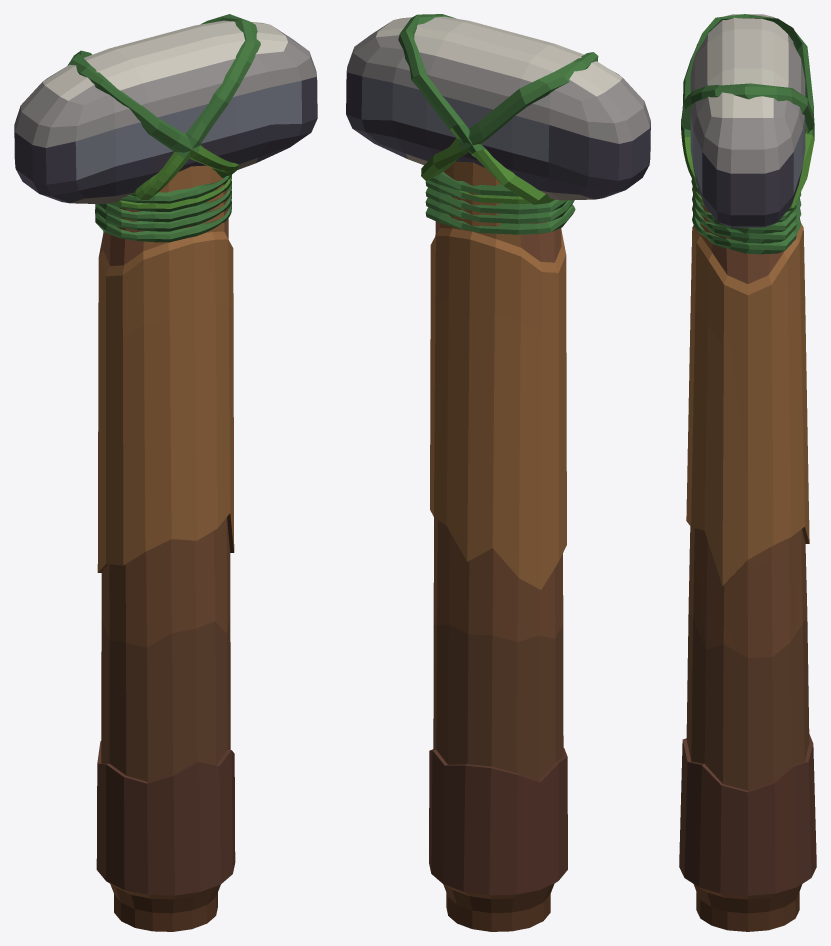
The model's file is stone_hammer.glb.
The picture shows the model from 3 angles, left to right: view 1: azimuth 30°, elevation 25°; view 2: azimuth 150°, elevation 25°; view 3: azimuth 270°, elevation 25°; orthographic projection.
Parts seen in each view (by area): view 1: StoneHammer; view 2: StoneHammer; view 3: StoneHammer.
Boxes of the visible parts, <box> form: StoneHammer: <box>14,14,317,931</box>; StoneHammer: <box>346,14,650,931</box>; StoneHammer: <box>679,14,816,931</box>.
Bounding box in the file's own units: 0.154 × 0.45 × 0.065.
